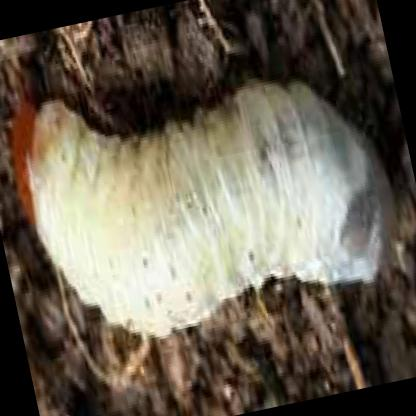root grubs: (11, 86, 394, 346)
